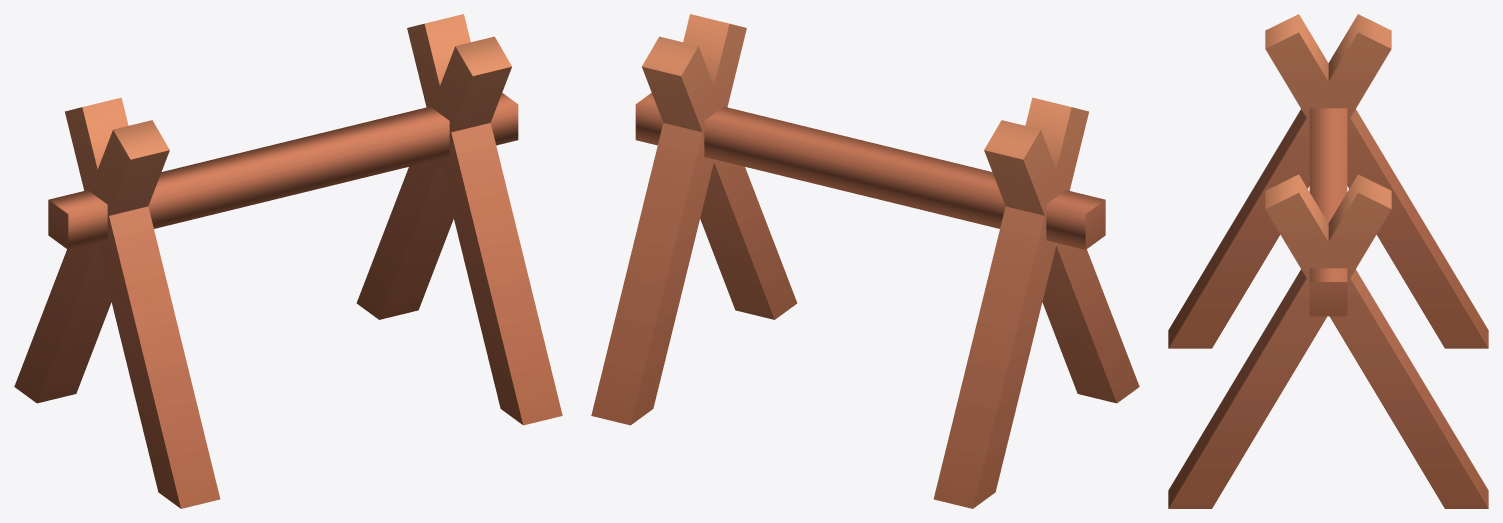
File: campfire-fishing-stand.glb
3 renders of one model, left to right at view 1: azimuth 30°, elevation 25°; view 2: azimuth 150°, elevation 25°; view 3: azimuth 270°, elevation 25°, orthographic. The views are drawn at different scales.
Parts seen in each view (by area): view 1: campfire-fishing-stand; view 2: campfire-fishing-stand; view 3: campfire-fishing-stand.
Boxes of the visible parts, x1,y1,x2,y2 form: campfire-fishing-stand: (14,14,562,508); campfire-fishing-stand: (591,14,1139,508); campfire-fishing-stand: (1168,14,1488,508).
Size of the model in its own units: 0.3945 by 0.276 by 0.2533.
Materials: 1 (1 with a texture image).
